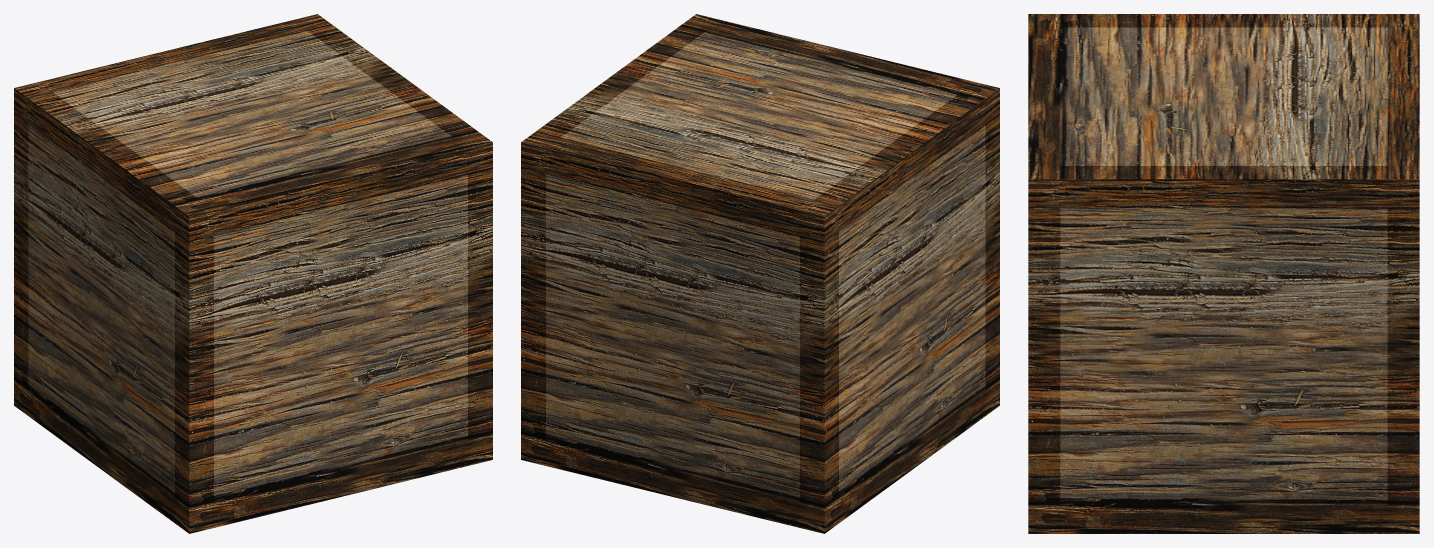
Rendered from destructable_crate_001.fbx.
The picture shows the model from 3 angles, left to right: view 1: azimuth 30°, elevation 25°; view 2: azimuth 150°, elevation 25°; view 3: azimuth 270°, elevation 25°; orthographic projection. The views are drawn at different scales.
Visible parts, largest first — view 1: main, chunk09, chunk20, chunk21, chunk05, chunk19, chunk11, chunk08, chunk06, chunk28, chunk26, chunk23 (+8 smaller); view 2: main, chunk28, chunk19, chunk23, chunk00, chunk20, chunk06, chunk07, chunk24, chunk18, chunk17, chunk16 (+1 smaller); view 3: main, chunk13, chunk14, chunk11, chunk10, chunk12, chunk24, chunk15, chunk23, chunk00, chunk29, chunk19 (+1 smaller).
Boxes of the visible parts, x1,y1,x2,y2 form: main: (14, 58, 492, 533); chunk09: (368, 142, 492, 432); chunk20: (125, 303, 315, 533); chunk21: (172, 204, 271, 412); chunk05: (217, 273, 361, 463); chunk19: (39, 97, 144, 455); chunk11: (382, 301, 492, 480); chunk08: (295, 173, 377, 357); chunk06: (100, 161, 189, 402); chunk28: (14, 72, 80, 402); chunk26: (283, 351, 408, 502); chunk23: (37, 34, 260, 106); main: (521, 14, 999, 533); chunk28: (758, 198, 868, 533); chunk19: (780, 152, 917, 472); chunk23: (604, 139, 849, 199); chunk00: (551, 70, 796, 164); chunk20: (939, 244, 999, 436); chunk06: (913, 123, 999, 274); chunk07: (902, 195, 960, 474); chunk24: (521, 120, 645, 162); chunk18: (732, 405, 854, 533); chunk17: (599, 459, 733, 511); chunk16: (904, 300, 942, 474); main: (1028, 14, 1419, 533); chunk13: (1200, 179, 1352, 431); chunk14: (1196, 350, 1418, 533); chunk11: (1028, 356, 1223, 533); chunk10: (1028, 179, 1159, 356); chunk12: (1109, 179, 1234, 430); chunk24: (1331, 130, 1419, 348); chunk15: (1351, 299, 1419, 533); chunk23: (1320, 14, 1419, 134); chunk00: (1188, 58, 1352, 179); chunk29: (1103, 464, 1197, 533); chunk19: (1237, 14, 1362, 60).
Bounding box in the file's own units: 400 × 400 × 400.
